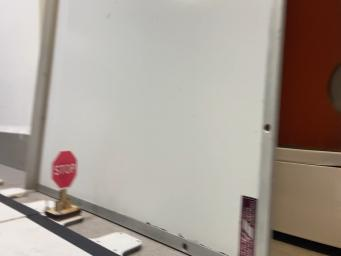stop: (46, 150, 82, 221), (46, 150, 82, 221), (46, 150, 82, 221), (46, 150, 82, 221), (46, 150, 82, 221), (46, 150, 82, 221)
street: (0, 195, 118, 256), (0, 195, 118, 256), (0, 195, 118, 256), (0, 195, 118, 256), (0, 195, 118, 256), (0, 195, 118, 256)
